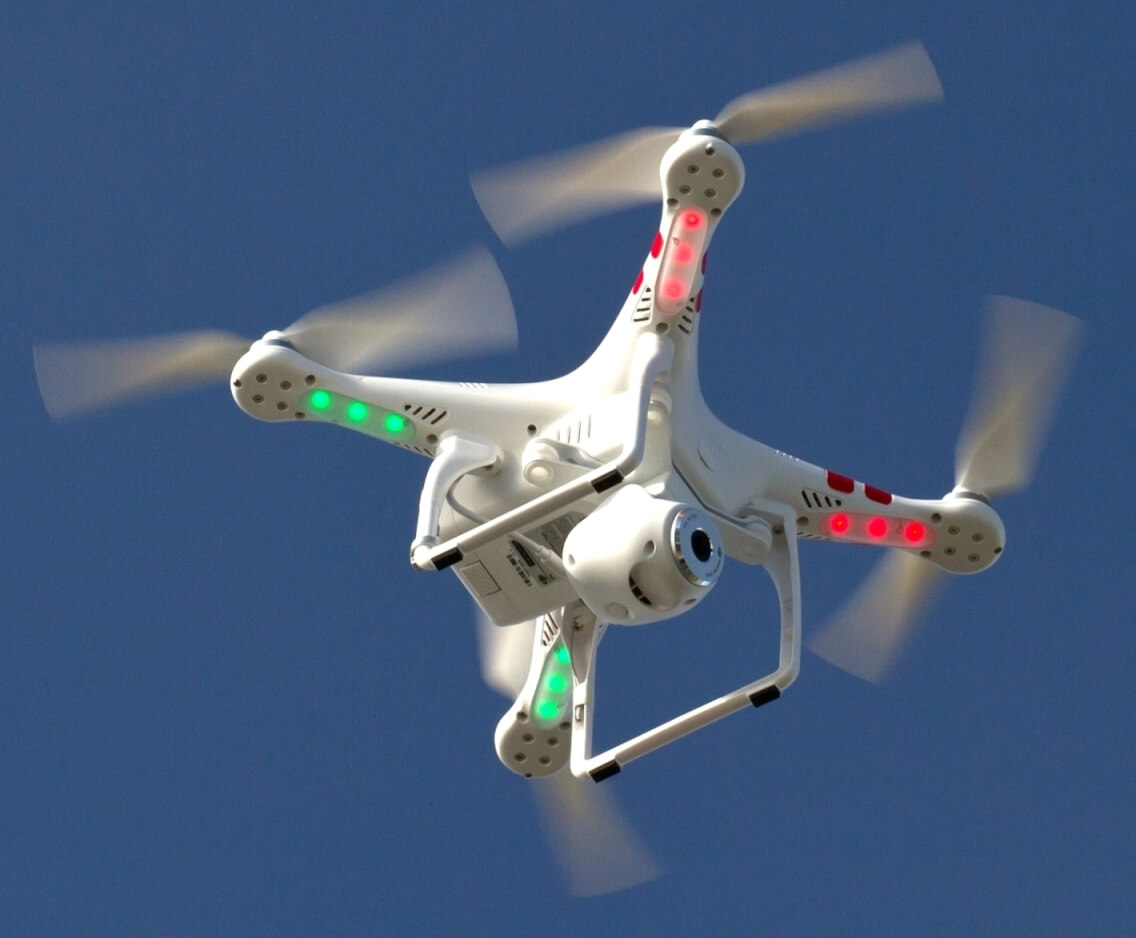drone: (34, 36, 1097, 904)
